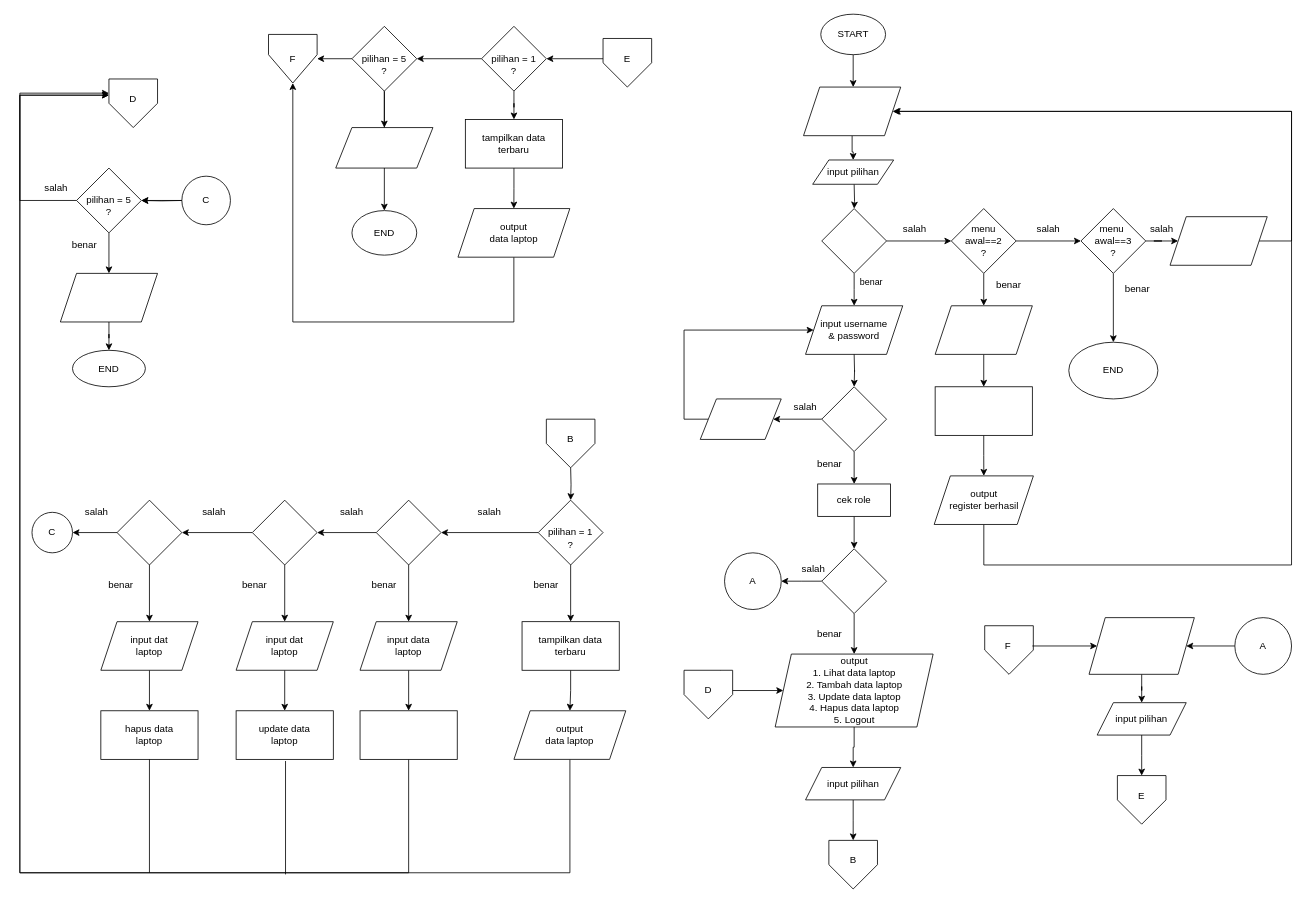
The diagram is 1312 pixels wide and 903 high, and some of its shapes have lost their labels. Here are the shapes that lost their labels. From the top down, the box of each, then its label:
(803, 86, 901, 136): output menu 1.login 2.register 3.keluar
(335, 127, 433, 168): output logout berhasil
(821, 208, 887, 273): menu awal == 1 ?
(1169, 216, 1267, 265): output Pilihan tidak valid
(60, 273, 158, 322): outpt logout berhasil
(934, 305, 1032, 354): input username, password bar u & role
(699, 398, 781, 439): output login gagal
(821, 386, 887, 452): login berhasil ?
(934, 386, 1032, 435): simpan usename,password, role baru
(116, 499, 182, 565): pilihan = 4 ?
(252, 499, 317, 565): pilihan = 3 ?
(375, 499, 441, 565): pilihan = 2 ?
(821, 548, 887, 614): apakah admin?
(1088, 617, 1194, 674): output 1. Lihat data laptop 5. Logout
(359, 710, 457, 759): tambah data laptop
